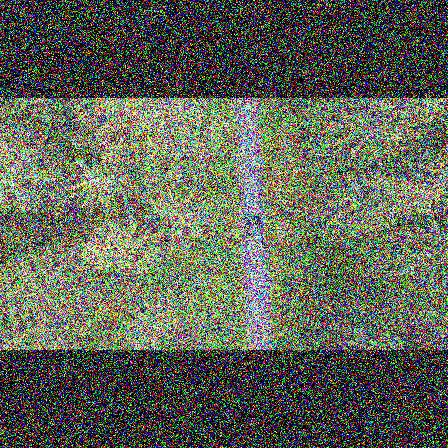Sick: (66, 164, 114, 202)
